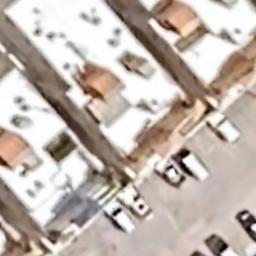SUV: (209, 112, 240, 148)
sedan: (156, 158, 183, 185), (238, 208, 256, 241)
van: (102, 204, 137, 233)
